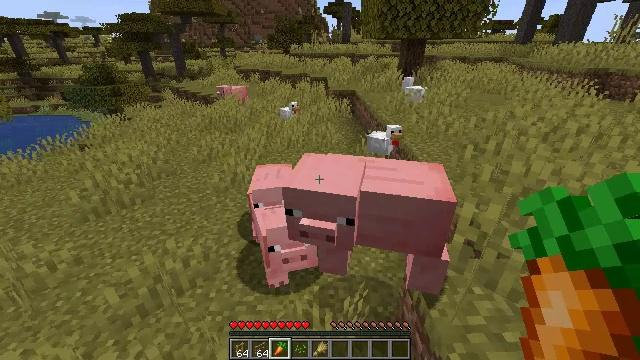chicken: (366, 123, 404, 157), (399, 78, 425, 103), (277, 99, 298, 122)
pig: (296, 153, 446, 291), (256, 209, 320, 283), (253, 161, 299, 233), (215, 83, 247, 108)
